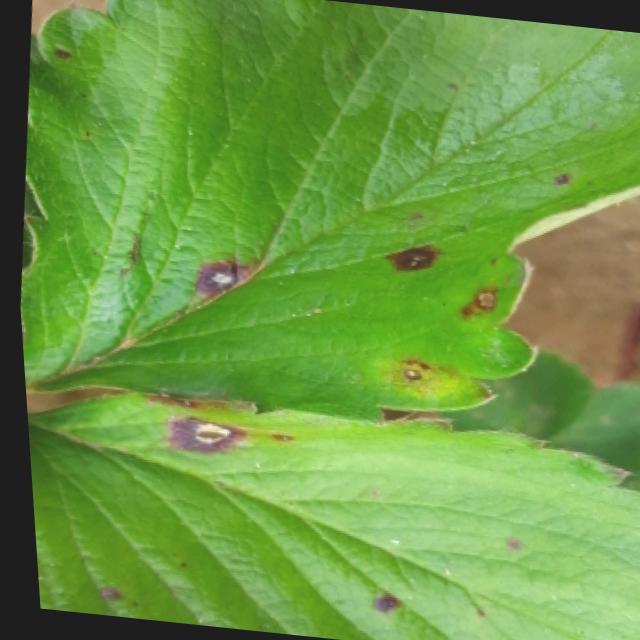Leaf Spot: (16, 0, 640, 421), (21, 391, 640, 640)
